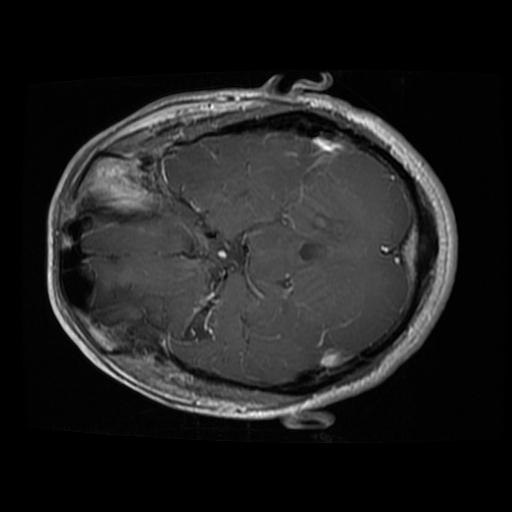glioma: (89, 285, 168, 353)
